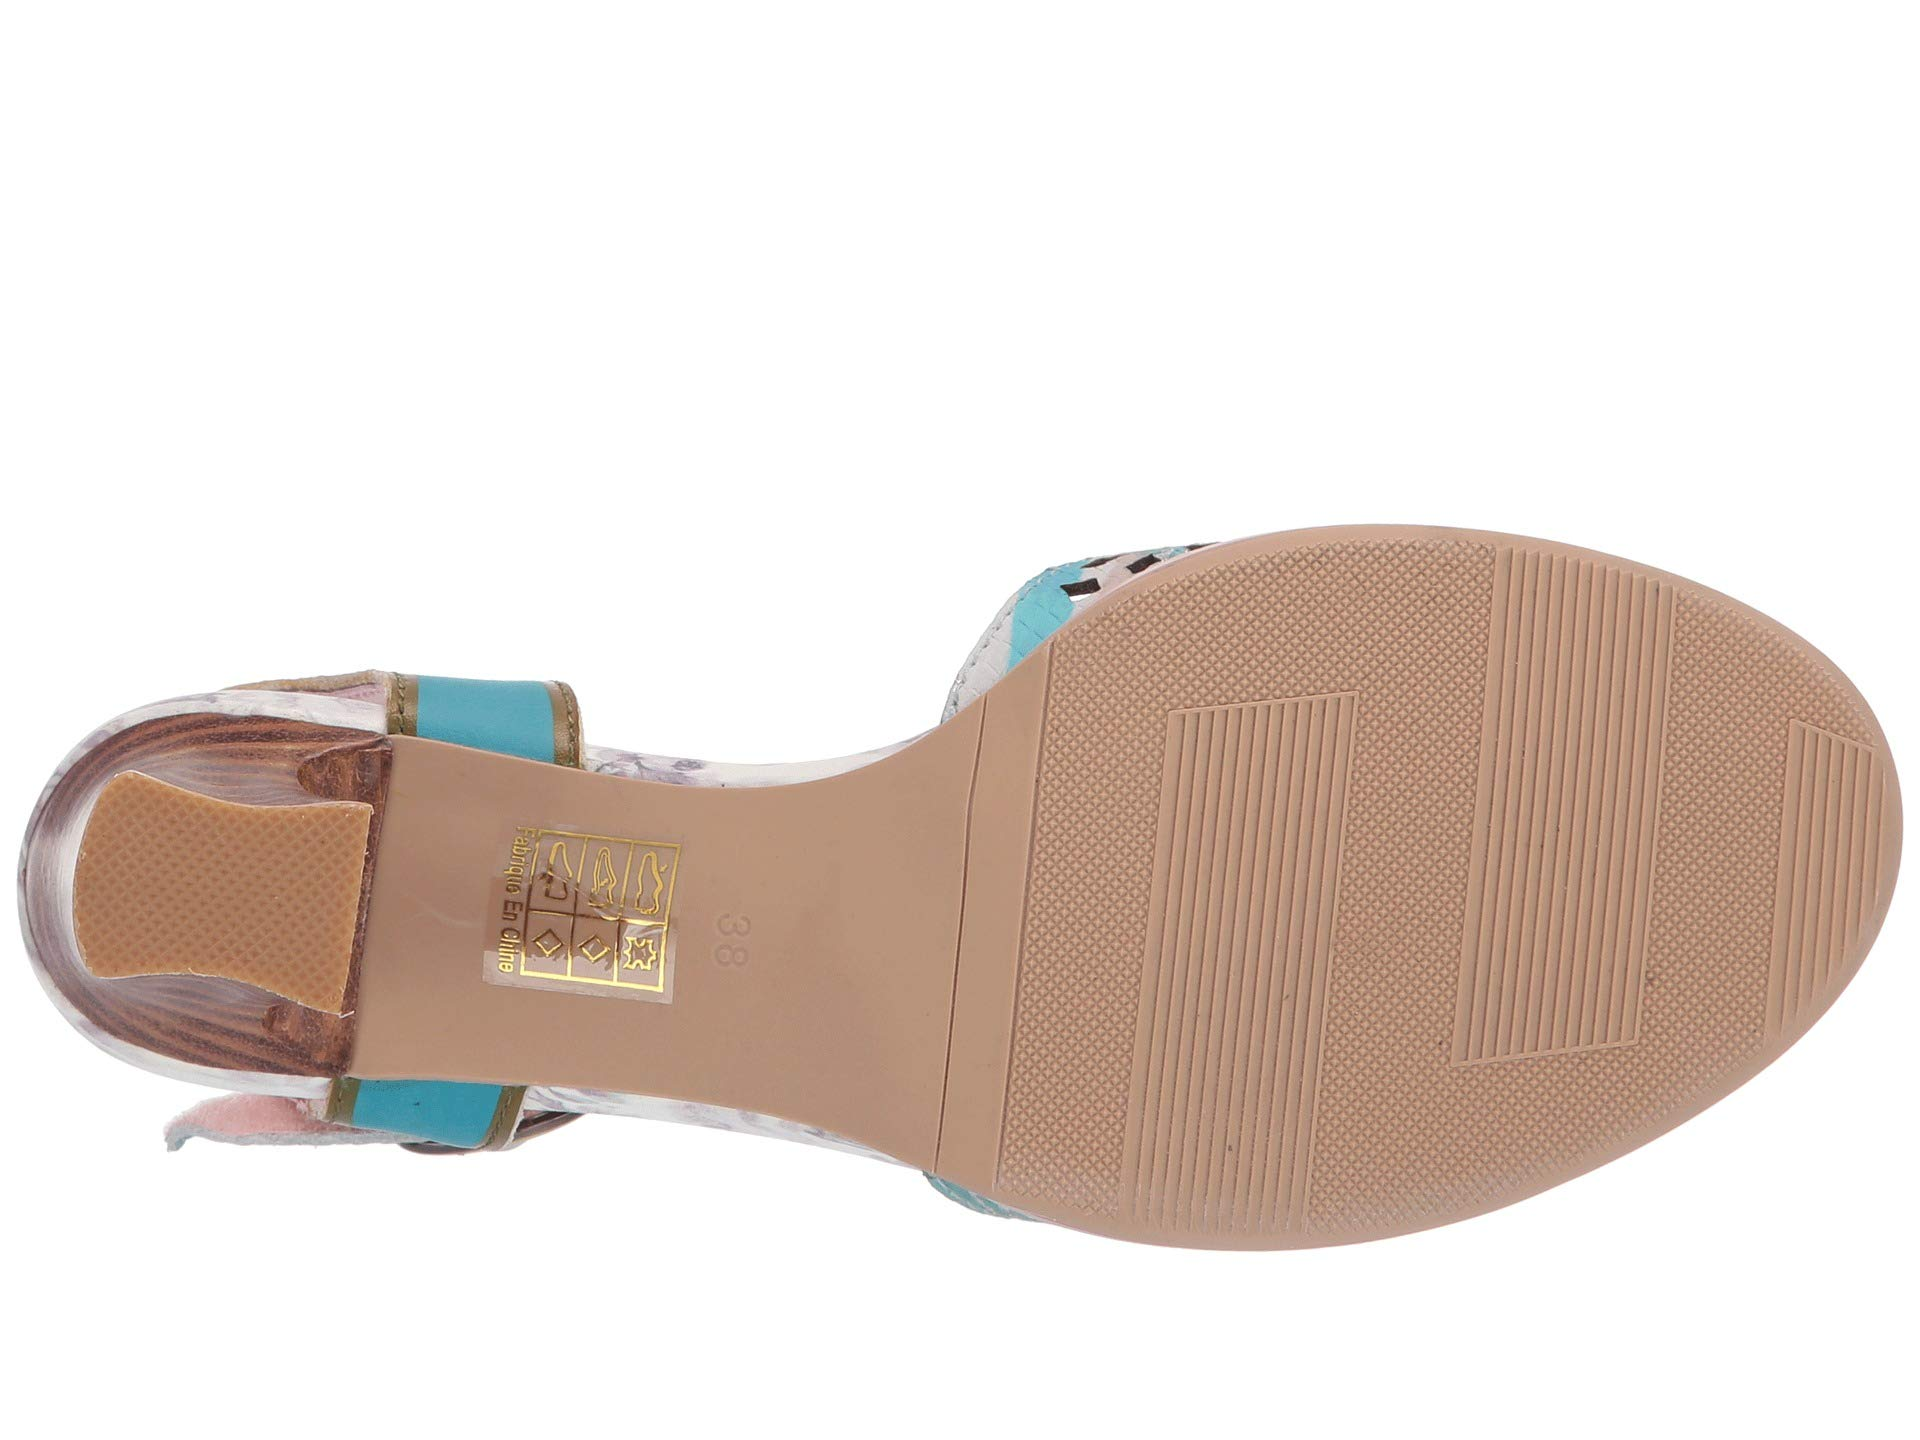line: (1101, 750, 1411, 1082), (1453, 638, 1714, 892)
